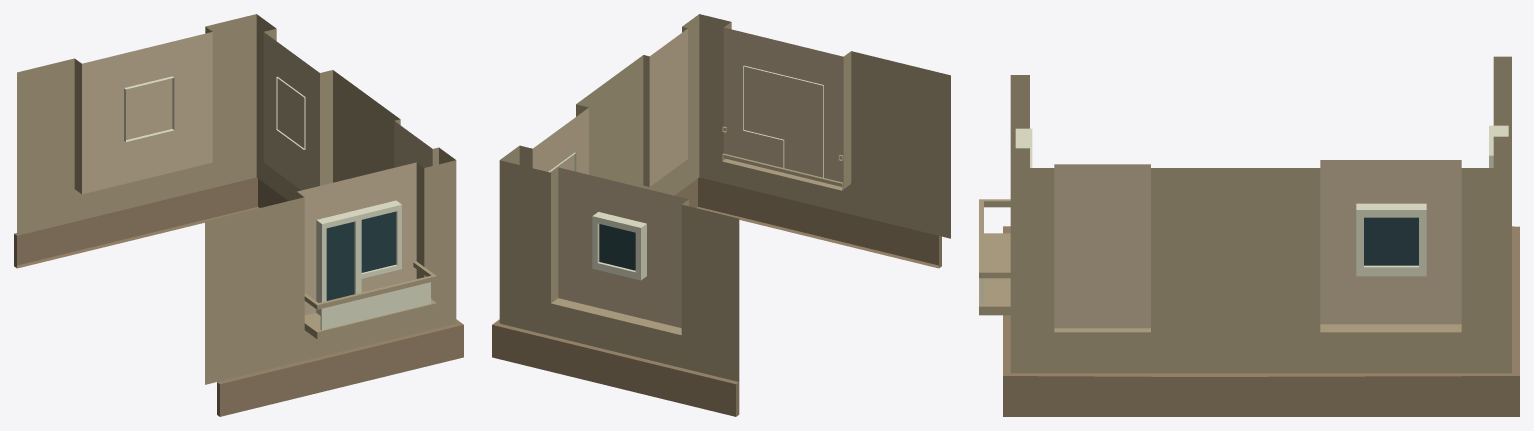
The model's file is apartment_building1_side1_ground.fbx.
3 renders of one model, left to right at view 1: azimuth 30°, elevation 25°; view 2: azimuth 150°, elevation 25°; view 3: azimuth 270°, elevation 25°, orthographic. The views are drawn at different scales.
Visible parts, largest first — view 1: apartment_building1_side1_ground; view 2: apartment_building1_side1_ground; view 3: apartment_building1_side1_ground.
Boxes of the visible parts, left/top/right/bottom form: apartment_building1_side1_ground: left=14, top=14, right=463, bottom=416; apartment_building1_side1_ground: left=492, top=14, right=950, bottom=416; apartment_building1_side1_ground: left=979, top=56, right=1519, bottom=416.
Bounding box in the file's own units: 413 × 300 × 597.
